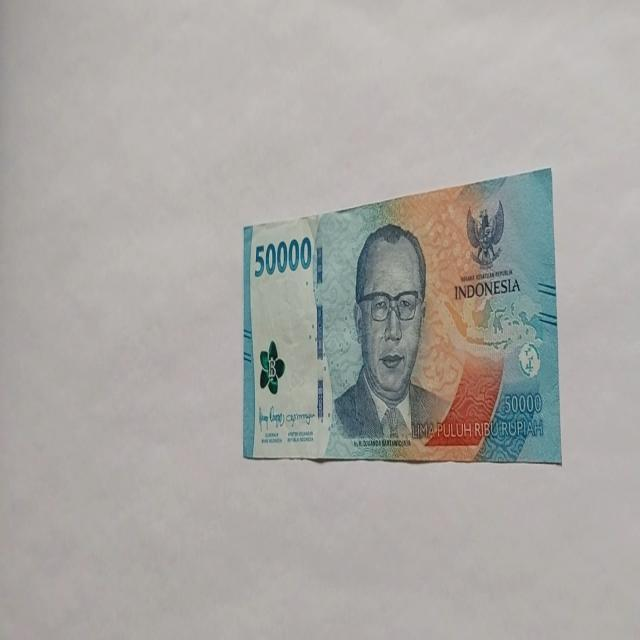lima puluh ribu rupiah: (241, 167, 561, 465), (329, 221, 451, 449)
